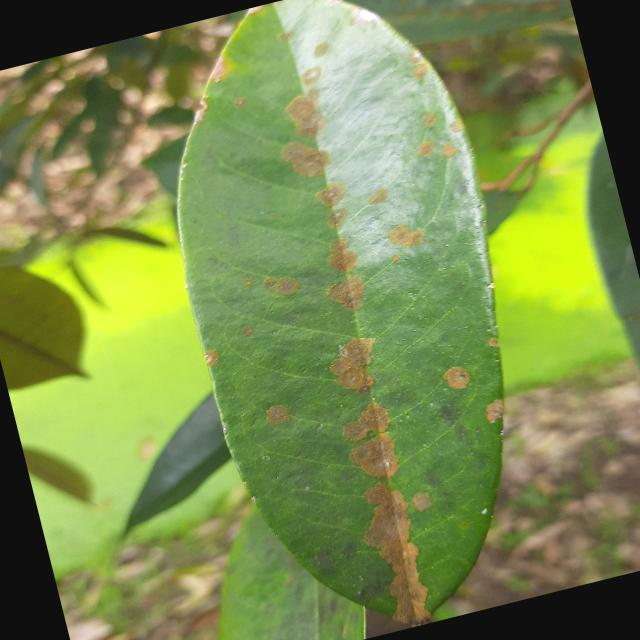Algal Leaf Spot: (115, 0, 591, 639)
